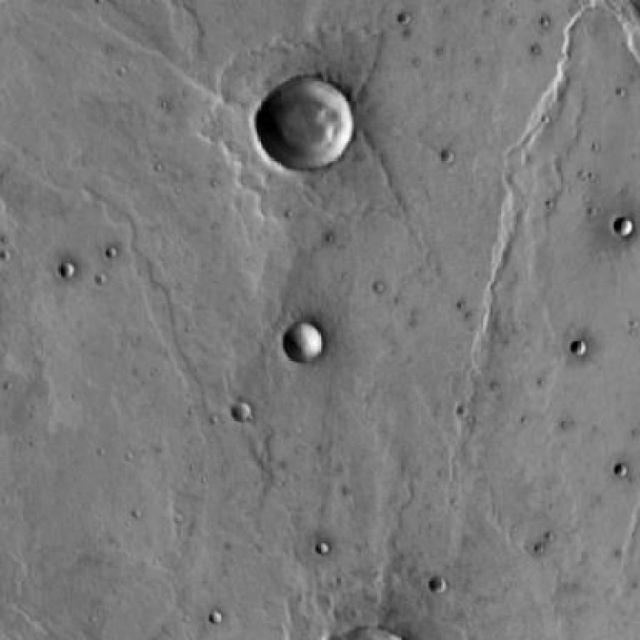crater: (259, 77, 355, 172), (281, 322, 322, 363), (226, 402, 248, 424), (612, 216, 632, 236), (427, 576, 445, 595), (59, 259, 76, 276), (316, 539, 332, 556)
